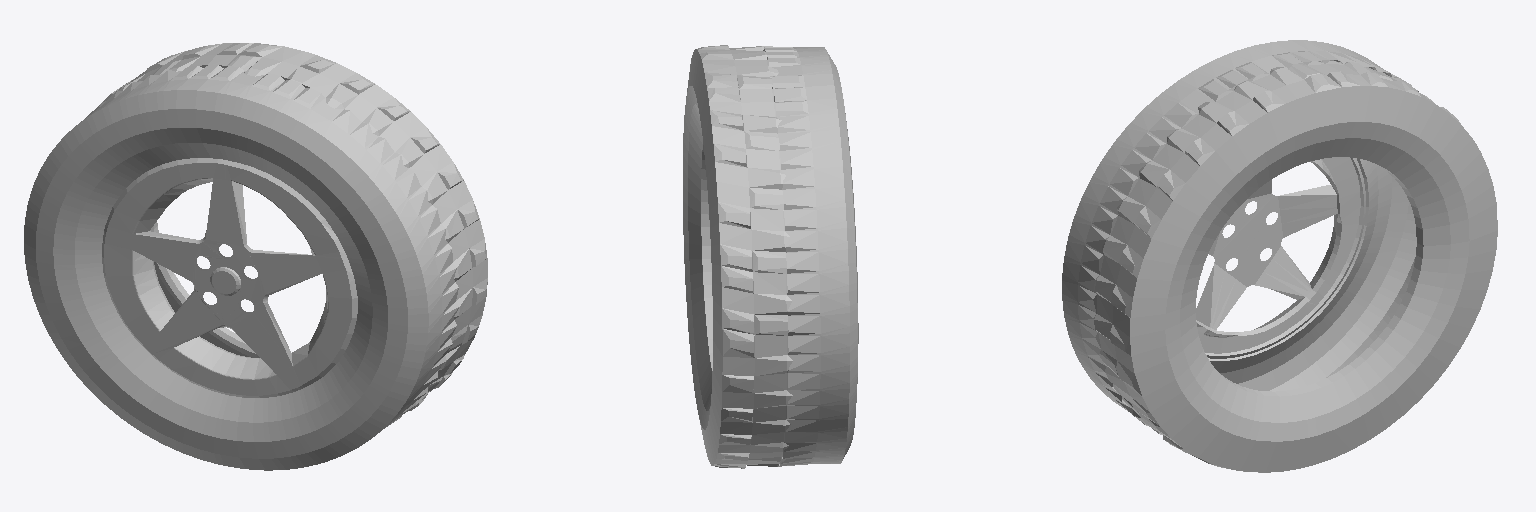
The model's file is llantaDer.obj.
3 views of the same model, side by side, from view 1: azimuth 30°, elevation 25°; view 2: azimuth 150°, elevation 25°; view 3: azimuth 270°, elevation 25° (orthographic).
Parts seen in each view (by area): view 1: polySurface277; view 2: polySurface277; view 3: polySurface277.
Part boxes in pixels (x1,y1,x2,y2): polySurface277: (24,43,487,470); polySurface277: (683,45,858,468); polySurface277: (1062,40,1497,472).
Size of the model in its own units: 0.3189 by 0.3651 by 0.3831.